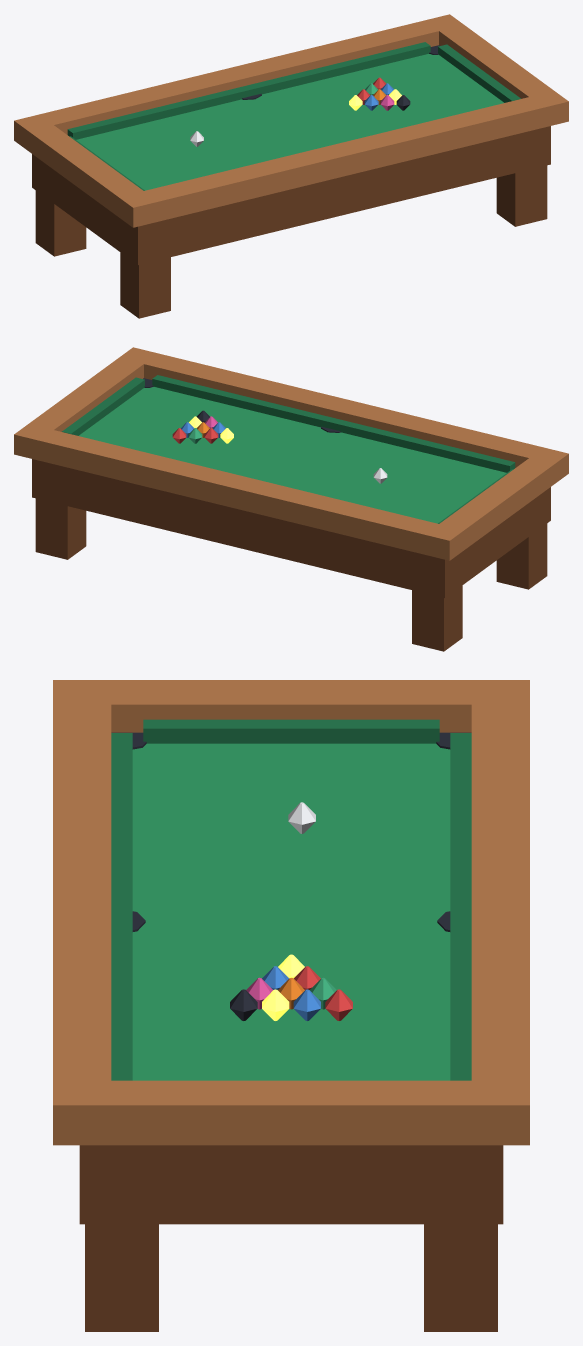
File: pool-table.glb
3 renders of one model, top to bottom at view 1: azimuth 30°, elevation 25°; view 2: azimuth 150°, elevation 25°; view 3: azimuth 270°, elevation 25°, orthographic. The views are drawn at different scales.
Parts seen in each view (by area): view 1: pool-table; view 2: pool-table; view 3: pool-table.
Boxes of the visible parts, left/top/right/bottom form: pool-table: left=14, top=14, right=568, bottom=318; pool-table: left=14, top=347, right=568, bottom=651; pool-table: left=53, top=680, right=529, bottom=1331.
Size of the model in its own units: 1.9 by 0.5 by 0.9.
Materials: 1 (1 with a texture image).
